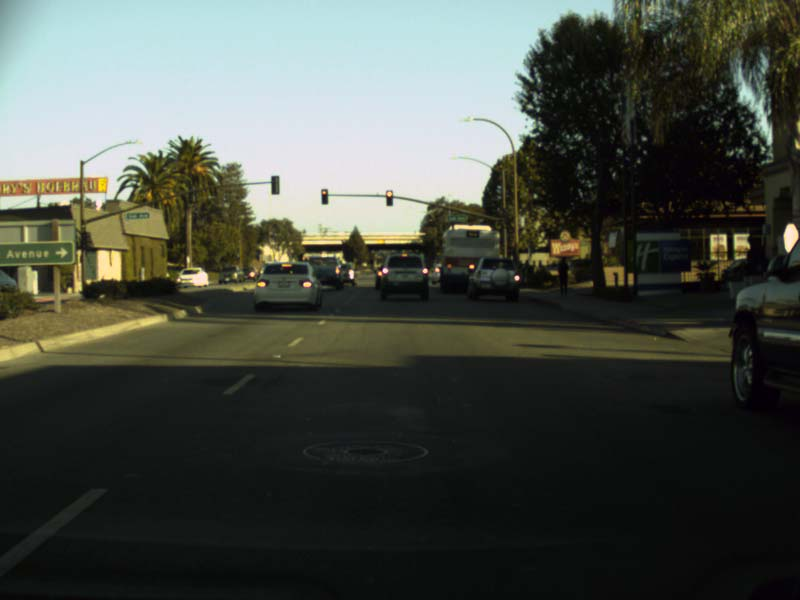Red: (320, 188, 328, 205), (385, 190, 393, 206)
